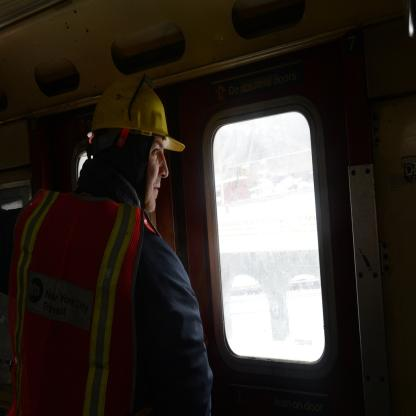Helmet: (86, 81, 172, 170)
